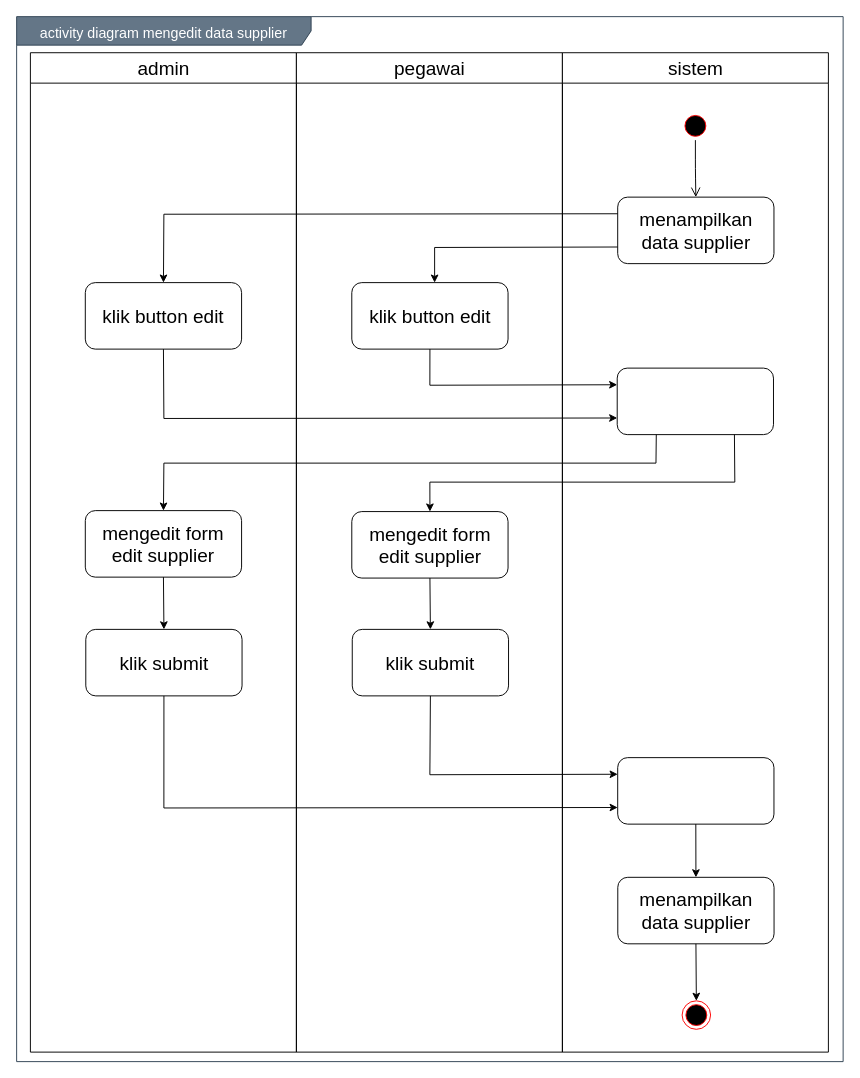
The diagram is 860 pixels wide and 1078 high, and some of its shapes have lost their labels. The centre of each missing label's shape, as x and y in pixels:
menampilkan form edit supplier: the point at 694,401
menyimpan ke database: the point at 695,790
